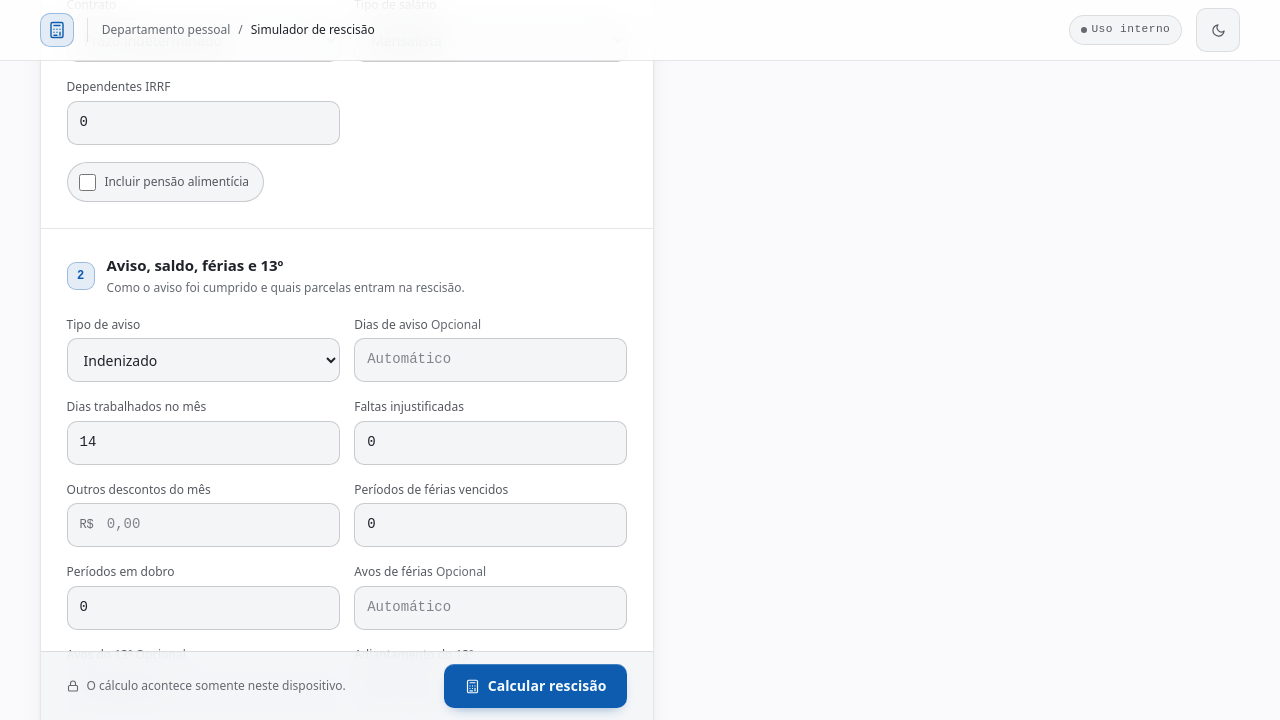
Test: SimuladorRescisao › exibe campo condicional para aviso parcial
(page scrolled)
Expected: the field labelled "dias cumpridos" is not shown
Select "Parcialmente cumprido" in the dropdown labelled "Tipo de aviso" at (203, 360), box x1=67 y1=338 x2=340 y2=382
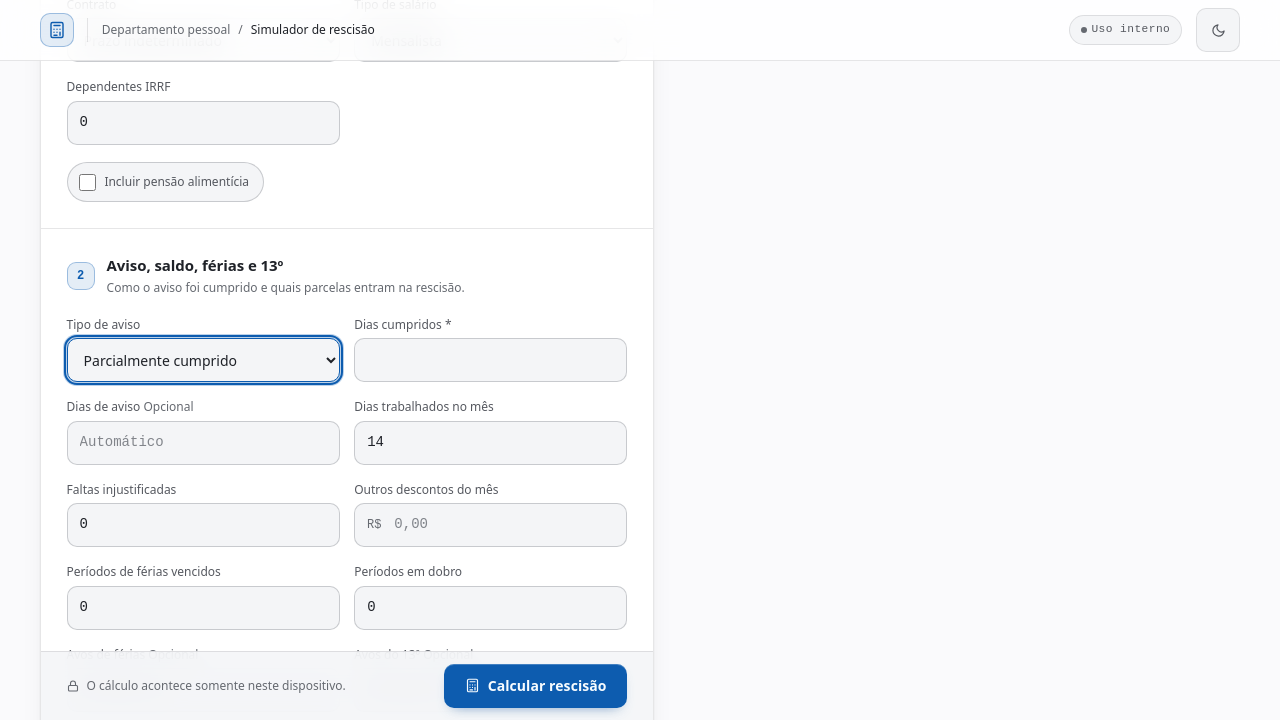
Now the number field labelled "Dias cumpridos *" is shown, box x1=354 y1=338 x2=627 y2=382
